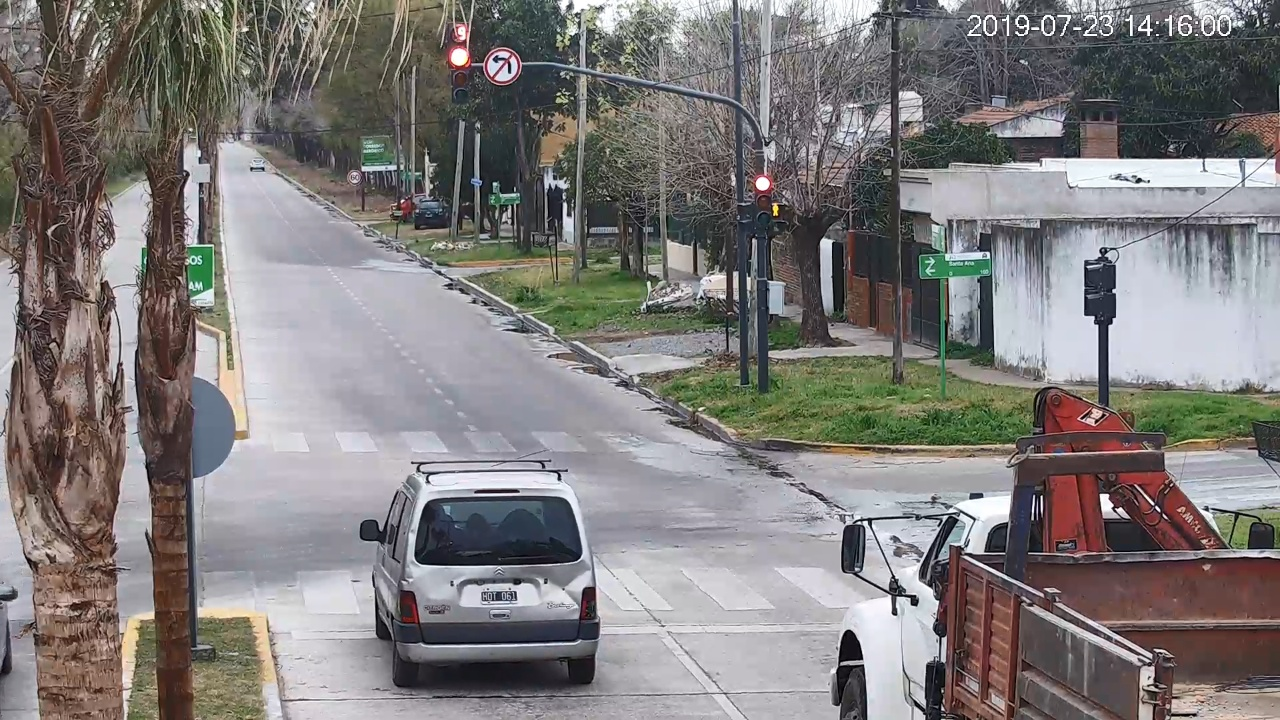car: (360, 460, 600, 686)
traffic light: (451, 45, 470, 105), (755, 175, 772, 227)
truck: (832, 387, 1280, 719)
